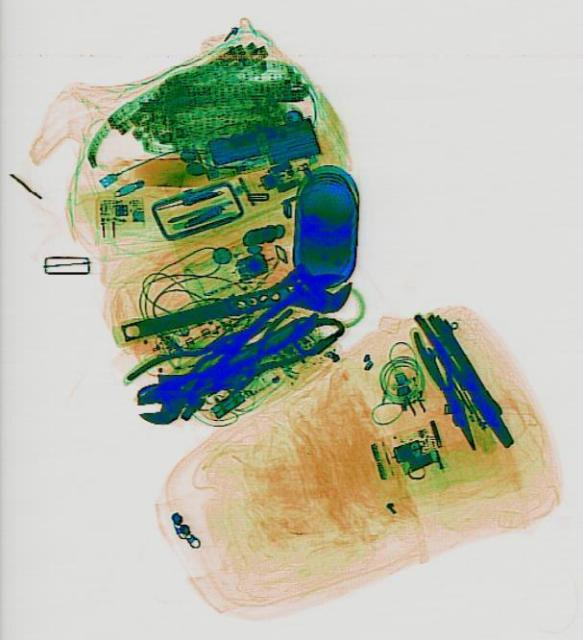Pliers: (121, 305, 267, 419), (409, 321, 485, 455)
Wrench: (129, 296, 322, 434), (114, 250, 355, 360)
